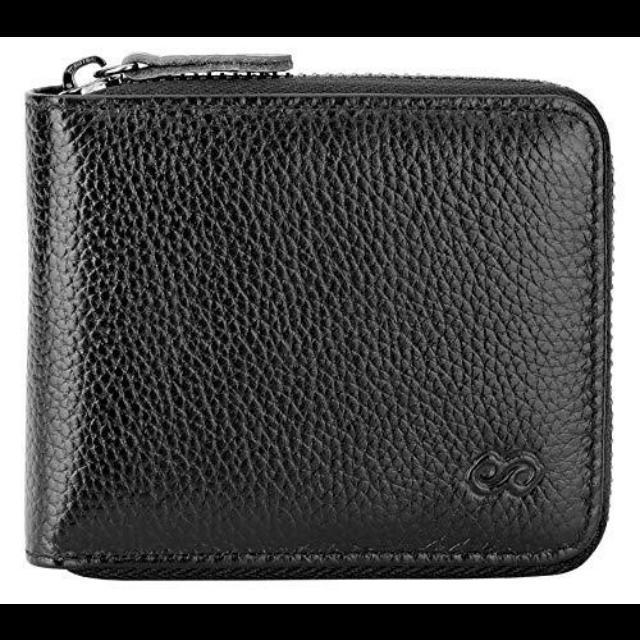wallet: (19, 64, 610, 576)
